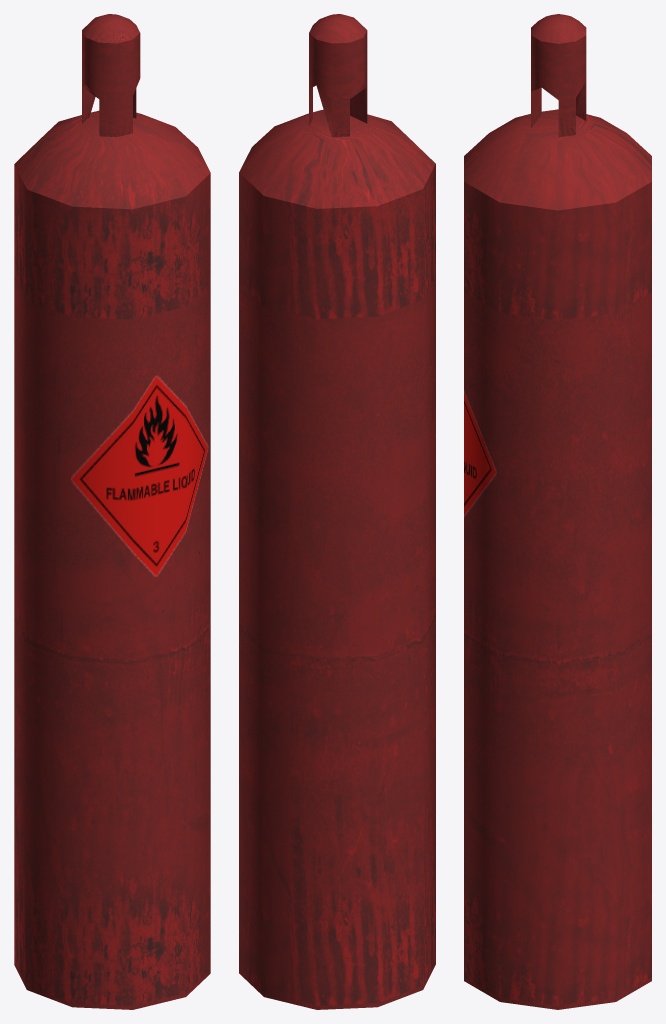
Rendered from WeldingTank01.dae.
The picture shows the model from 3 angles, left to right: view 1: azimuth 30°, elevation 25°; view 2: azimuth 150°, elevation 25°; view 3: azimuth 270°, elevation 25°; orthographic projection.
Visible parts, largest first — view 1: GasContainer200, GasContainer100; view 2: GasContainer200, GasContainer100; view 3: GasContainer200, GasContainer100.
Part boxes in pixels (x1,y1,x2,y2): GasContainer200: [14, 14, 210, 1009]; GasContainer100: [82, 34, 140, 133]; GasContainer200: [239, 14, 435, 1009]; GasContainer100: [309, 38, 367, 136]; GasContainer200: [464, 14, 651, 1009]; GasContainer100: [531, 38, 586, 127].
Size of what is drawn, in the model's own units: 1.07 by 1.02 by 5.69.
